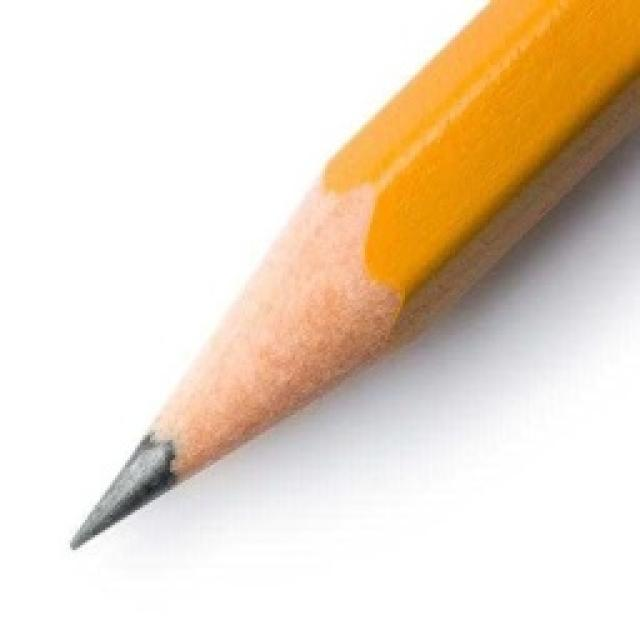pencil: (64, 0, 637, 552)
